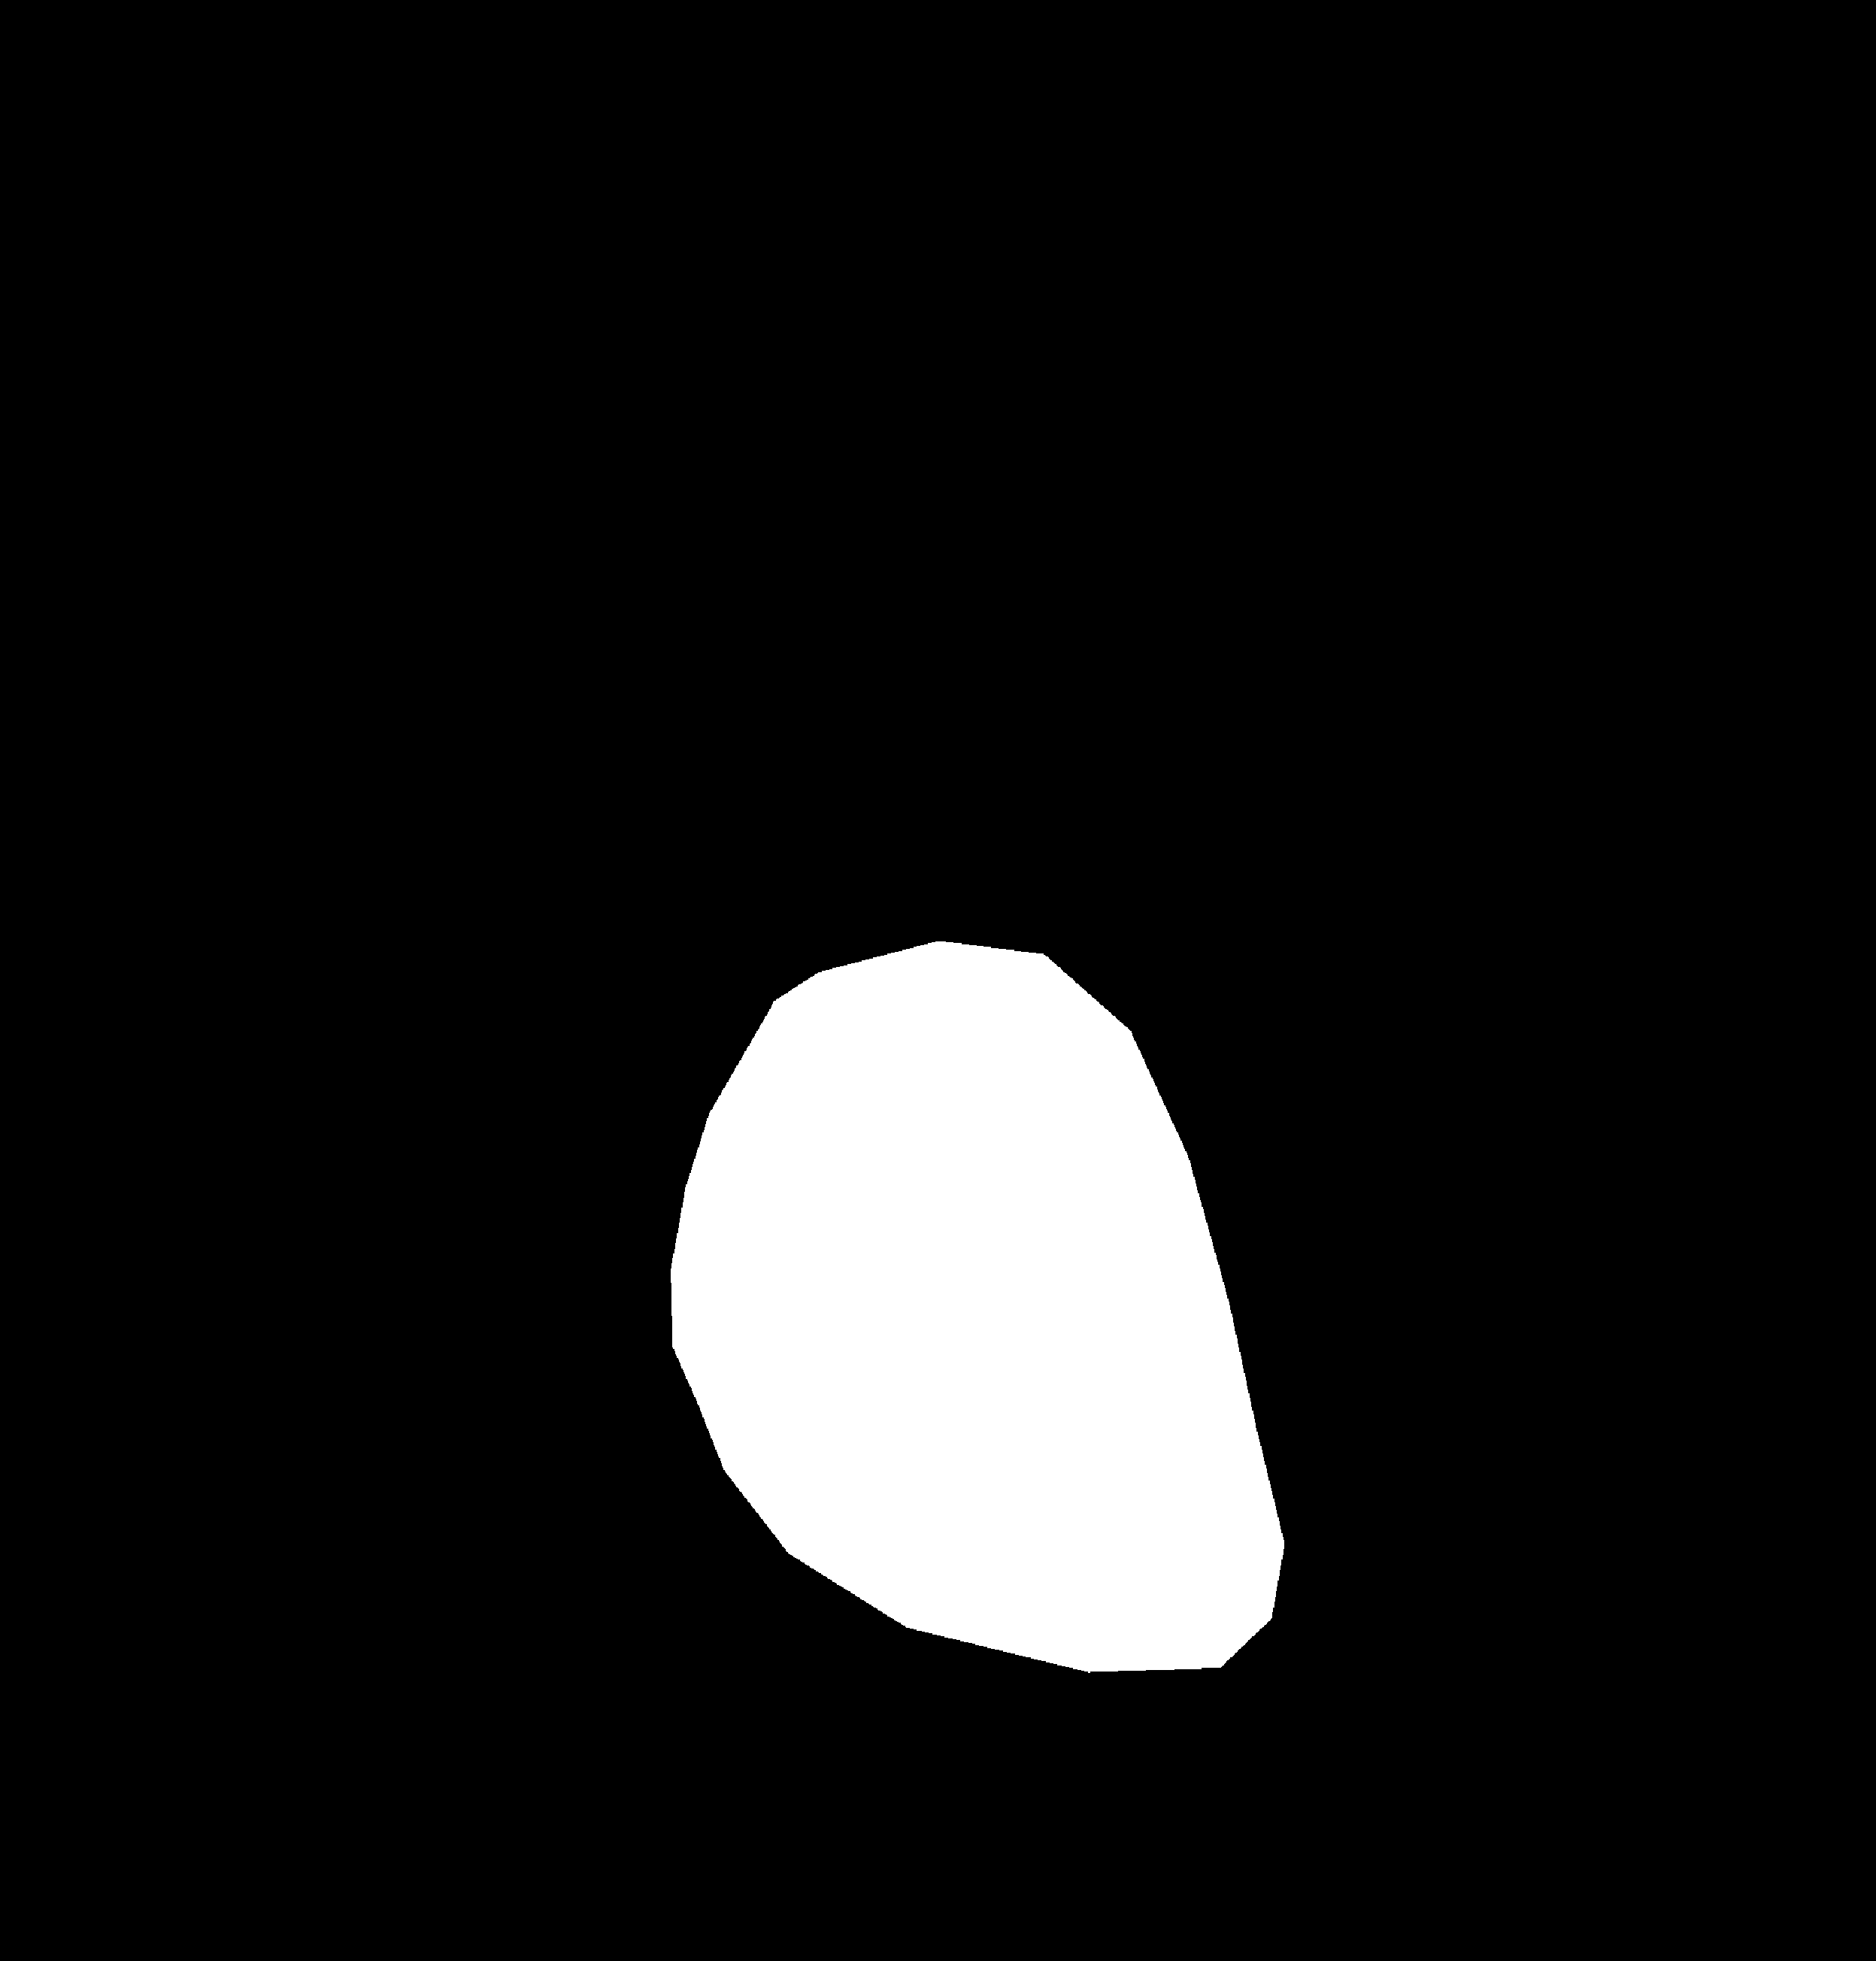heart: (667, 1037, 1272, 1667)
left_lung: (186, 259, 879, 1831)
right_lung: (1040, 263, 1668, 1926)
